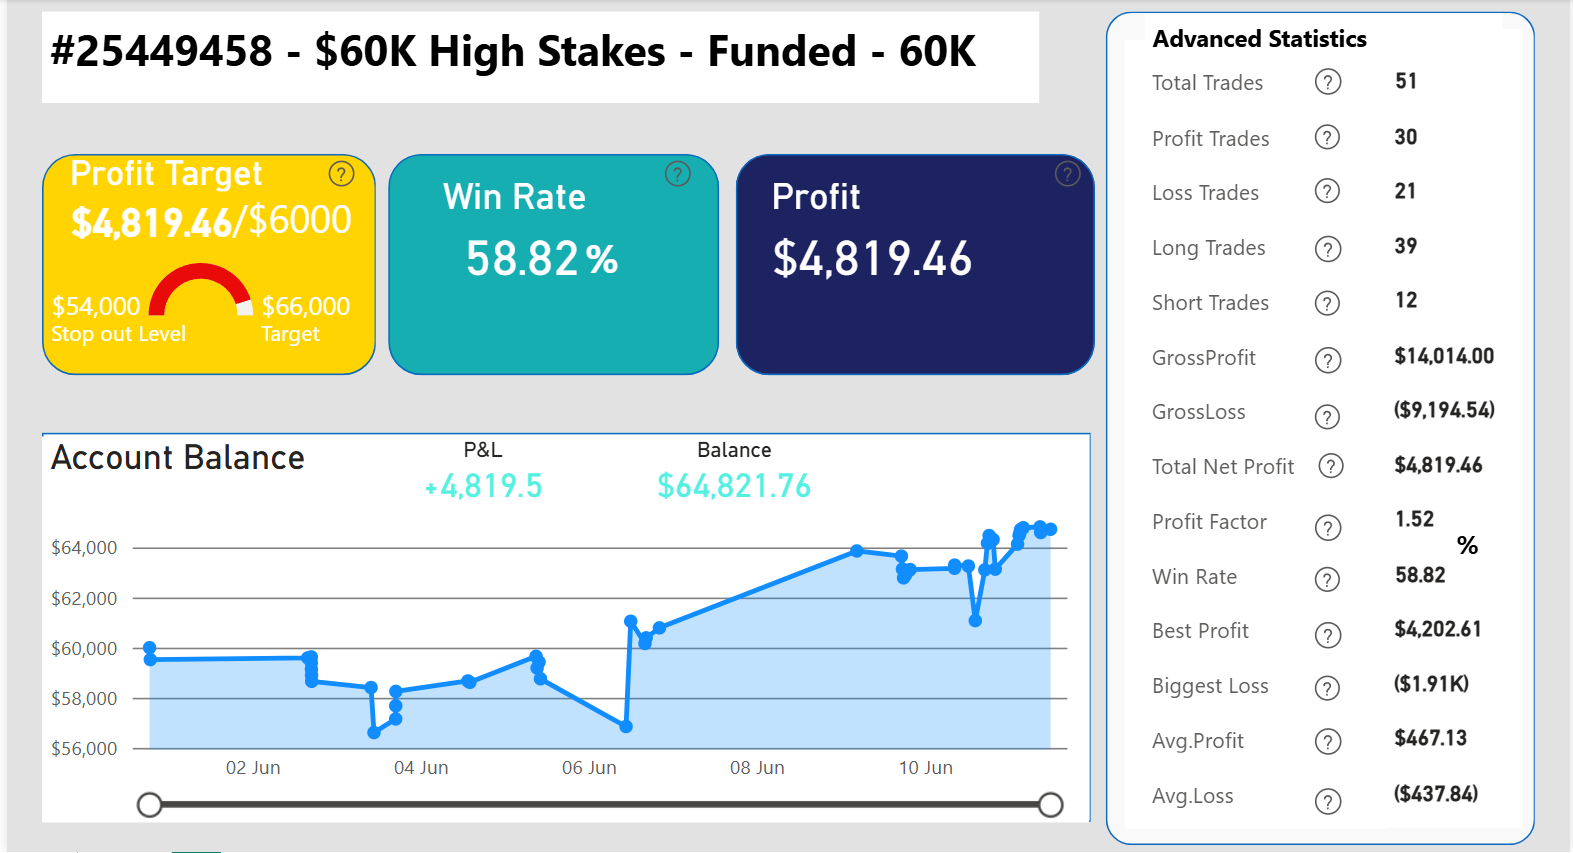

The dashboard page shown, as its layout file describes it:
{"tool":"powerbi","page":{"name":"Page 1","canvas":[970,530],"ordinal":0},"visuals":[{"type":"shape","box":[1178.2,0,311.2,720.5],"z":0},{"type":"shape","box":[682.2,7.4,266.8,517.7],"z":1000},{"type":"shape","box":[21.7,269.5,651.6,241.6],"z":2000},{"type":"areaChart","title":"Account Balance","fields":{"Category":["Table1.Open Date"],"Y":["Sum(Table1.starting balance)"]},"box":[21.7,271.6,649.5,239.6],"z":3000},{"type":"card","title":"P&L","fields":{"Values":["Table1.P&L Display"]},"box":[236.5,272.6,117.7,44.4],"z":4000},{"type":"card","title":"Balance","fields":{"Values":["Table1.end balance"]},"box":[365.5,272.6,172.4,44.4],"z":5000},{"type":"shape","box":[21.7,96,207.6,137.3],"z":6000},{"type":"shape","box":[236.5,96,205.5,137.3],"z":7000},{"type":"shape","box":[452.3,96,223,137.3],"z":8000},{"type":"card","title":"Profit","fields":{"Values":["Table1.Total pnl"]},"box":[469.5,108.7,136.4,74.2],"z":9000},{"type":"actionButton","box":[645.5,95.8,29.3,25.9],"z":10000},{"type":"card","title":"Win Rate ","fields":{"Values":["Table1.Win Rate"]},"box":[265.8,108.7,107.9,74.2],"z":11000},{"type":"actionButton","box":[403.9,95.8,29.3,25.9],"z":12000},{"type":"textbox","box":[22.7,193.1,121.8,28.9],"z":13000},{"type":"textbox","box":[152.8,193.1,73.3,29.9],"z":14000},{"type":"card","title":"Profit Target","fields":{"Values":["Table1.Total pnl"]},"box":[16,95.4,147.9,60.6],"z":15000},{"type":"textbox","box":[135,114.9,121.2,49.6],"z":16000},{"type":"gauge","fields":{"MinValue":["Table1.Stopout level"],"MaxValue":["Table1.Profit Target"],"Y":["Table1.end balance"]},"box":[11.4,159,217.9,47.5],"z":17000},{"type":"actionButton","box":[195.2,95.4,29.4,25.8],"z":18000},{"type":"textbox","box":[353.8,139.9,40.1,42.8],"z":19000},{"type":"textbox","box":[21.4,8,619.4,57],"z":20000},{"type":"cardVisual","fields":{"Data":["Table1.Total Trades","Table1.Profit Trades","Table1.Loss Trades","Table1.Long Trades","Table1.Short Trades","Table1.GrossProfit","Table1.GrossLoss","Table1.Total Net Profit","Table1.Profit Factor","Table1.Win Rate","Table1.Best Profit","Table1.Biggest Loss"]},"box":[693.8,25.3,162.4,489.2],"z":21000},{"type":"textbox","box":[706.3,9.3,222,33],"z":22000},{"type":"actionButton","box":[807.6,176.1,26.4,25.3],"z":23000},{"type":"actionButton","box":[807.6,210.9,26.4,26.4],"z":24000},{"type":"actionButton","box":[807.6,315.2,26.4,26.4],"z":25000},{"type":"actionButton","box":[807.6,347.9,26.4,25.3],"z":26000},{"type":"actionButton","box":[807.6,381.7,26.4,26.4],"z":27000},{"type":"actionButton","box":[807.6,415.4,26.4,25.3],"z":28000},{"type":"actionButton","box":[807.6,485,26.4,26.4],"z":29000},{"type":"actionButton","box":[807.6,246.7,26.4,25.3],"z":30000},{"type":"actionButton","box":[809.7,277.3,26.4,25.3],"z":31000},{"type":"actionButton","box":[807.6,38,26.4,26.4],"z":32000},{"type":"actionButton","box":[807.6,106.5,26.4,25.3],"z":33000},{"type":"actionButton","box":[807.6,142.3,26.4,26.4],"z":34000},{"type":"actionButton","box":[807.6,72.8,26.4,25.3],"z":35000},{"type":"cardVisual","fields":{"Data":["Table1.Total Trades","Table1.Profit Trades","Table1.Loss Trades","Table1.Long Trades","Table1.Short Trades","Table1.GrossProfit","Table1.GrossLoss","Table1.Total Net Profit","Table1.Profit Factor","Table1.Win Rate","Table1.Best Profit","Table1.Biggest Loss"]},"box":[844.7,18.6,97.1,495.7],"z":36000},{"type":"textbox","box":[895.3,322.2,34.1,41.3],"z":37000},{"type":"actionButton","box":[807.6,448.1,26.4,26.4],"z":38000}]}

Visuals, with their boxes in screenshot pixels (x1, y1, x2, y2), scaled from the page's 970x530 canvas onto the 1573x853 screenshot:
shape: bbox=[1106, 12, 1539, 845]
shape: bbox=[35, 434, 1092, 823]
"Account Balance" areaChart: bbox=[35, 437, 1088, 823]
"P&L" card: bbox=[384, 439, 574, 510]
"Balance" card: bbox=[593, 439, 872, 510]
shape: bbox=[35, 155, 372, 375]
shape: bbox=[384, 155, 717, 375]
shape: bbox=[733, 155, 1095, 375]
"Profit" card: bbox=[761, 175, 983, 294]
actionButton: bbox=[1047, 154, 1094, 196]
"Win Rate " card: bbox=[431, 175, 606, 294]
actionButton: bbox=[655, 154, 702, 196]
textbox: bbox=[37, 311, 234, 357]
textbox: bbox=[248, 311, 367, 359]
"Profit Target" card: bbox=[26, 154, 266, 251]
textbox: bbox=[219, 185, 415, 265]
gauge - Table1.Stopout level x Table1.Profit Target: bbox=[18, 256, 372, 332]
actionButton: bbox=[317, 154, 364, 195]
textbox: bbox=[574, 225, 639, 294]
textbox: bbox=[35, 13, 1039, 105]
cardVisual - Table1.Total Trades x Table1.Profit Trades: bbox=[1125, 41, 1388, 828]
textbox: bbox=[1145, 15, 1505, 68]
actionButton: bbox=[1310, 283, 1352, 324]
actionButton: bbox=[1310, 339, 1352, 382]
actionButton: bbox=[1310, 507, 1352, 550]
actionButton: bbox=[1310, 560, 1352, 601]
actionButton: bbox=[1310, 614, 1352, 657]
actionButton: bbox=[1310, 669, 1352, 709]
actionButton: bbox=[1310, 781, 1352, 823]
actionButton: bbox=[1310, 397, 1352, 438]
actionButton: bbox=[1313, 446, 1356, 487]
actionButton: bbox=[1310, 61, 1352, 104]
actionButton: bbox=[1310, 171, 1352, 212]
actionButton: bbox=[1310, 229, 1352, 272]
actionButton: bbox=[1310, 117, 1352, 158]
cardVisual - Table1.Total Trades x Table1.Profit Trades: bbox=[1370, 30, 1527, 828]
textbox: bbox=[1452, 519, 1507, 585]
actionButton: bbox=[1310, 721, 1352, 764]
